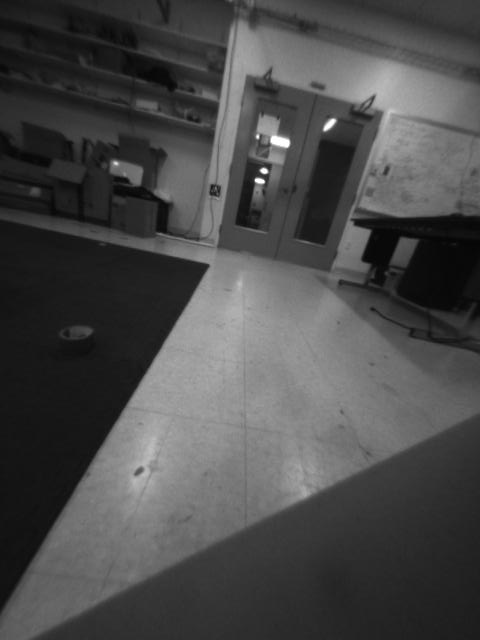dogtoy: (50, 317, 103, 362)
